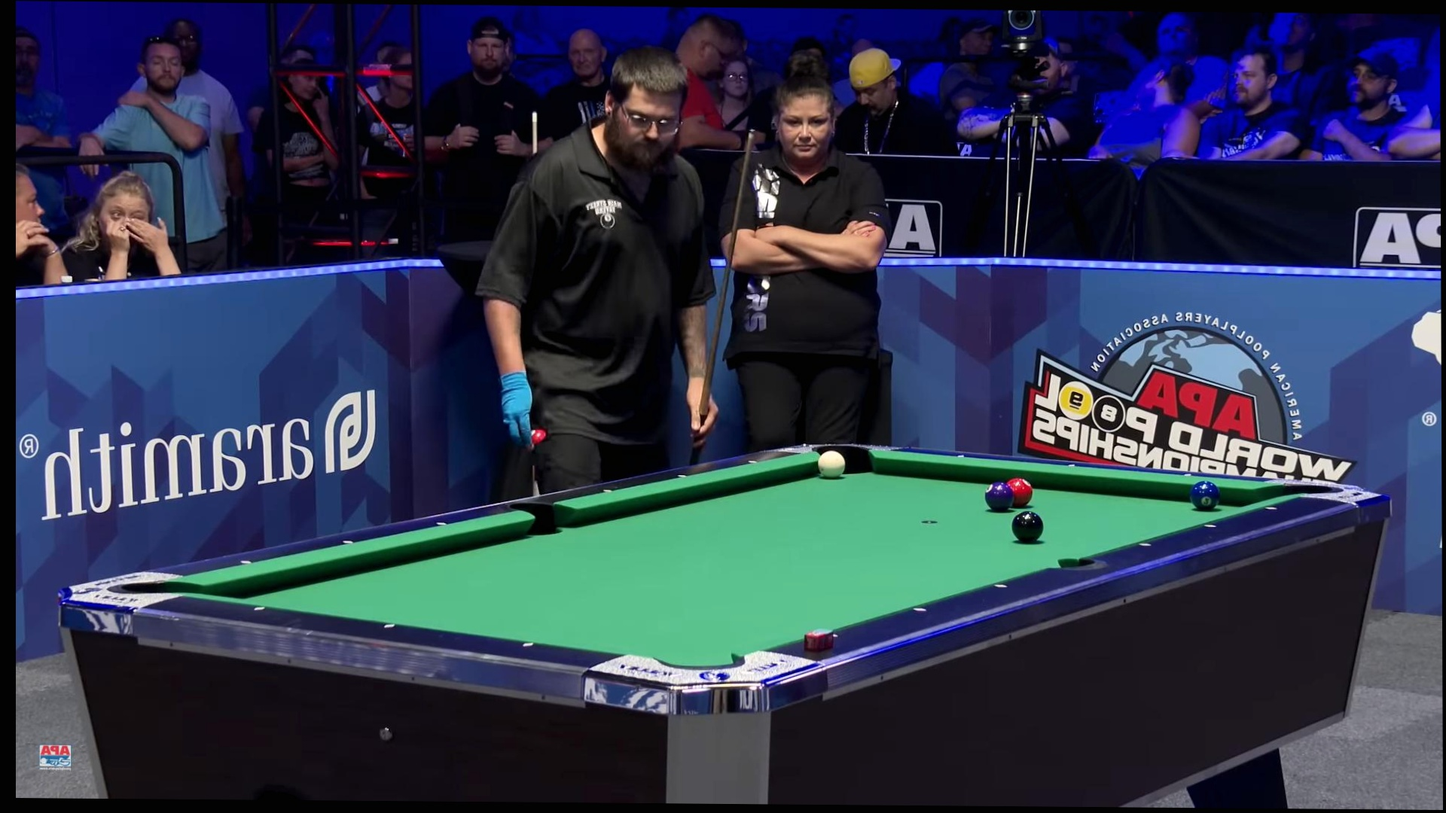Black: (1011, 511, 1043, 544)
Cue: (817, 451, 845, 478)
Solid: (825, 630, 842, 641), (1264, 503, 1281, 514), (1063, 460, 1080, 471), (238, 557, 255, 568), (912, 604, 928, 615), (993, 580, 1009, 591), (1137, 539, 1153, 550), (1180, 469, 1196, 480), (599, 485, 615, 496), (434, 518, 450, 529), (743, 457, 760, 467), (340, 537, 357, 547), (250, 603, 267, 613), (1203, 521, 1219, 531), (952, 451, 968, 461), (674, 471, 690, 481), (380, 620, 396, 630), (520, 639, 536, 649)
Striped: (1189, 480, 1220, 511), (985, 481, 1014, 512), (1006, 478, 1033, 509)
